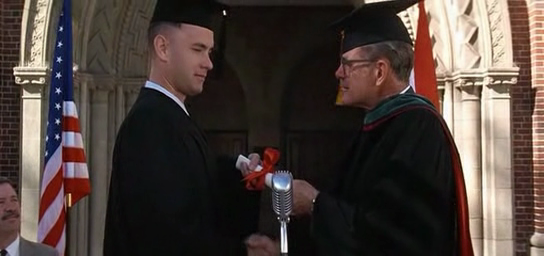face: (180, 37, 213, 97), (334, 46, 361, 105)
ms: (1, 1, 544, 256)
person: (292, 1, 474, 256), (104, 1, 227, 255)
